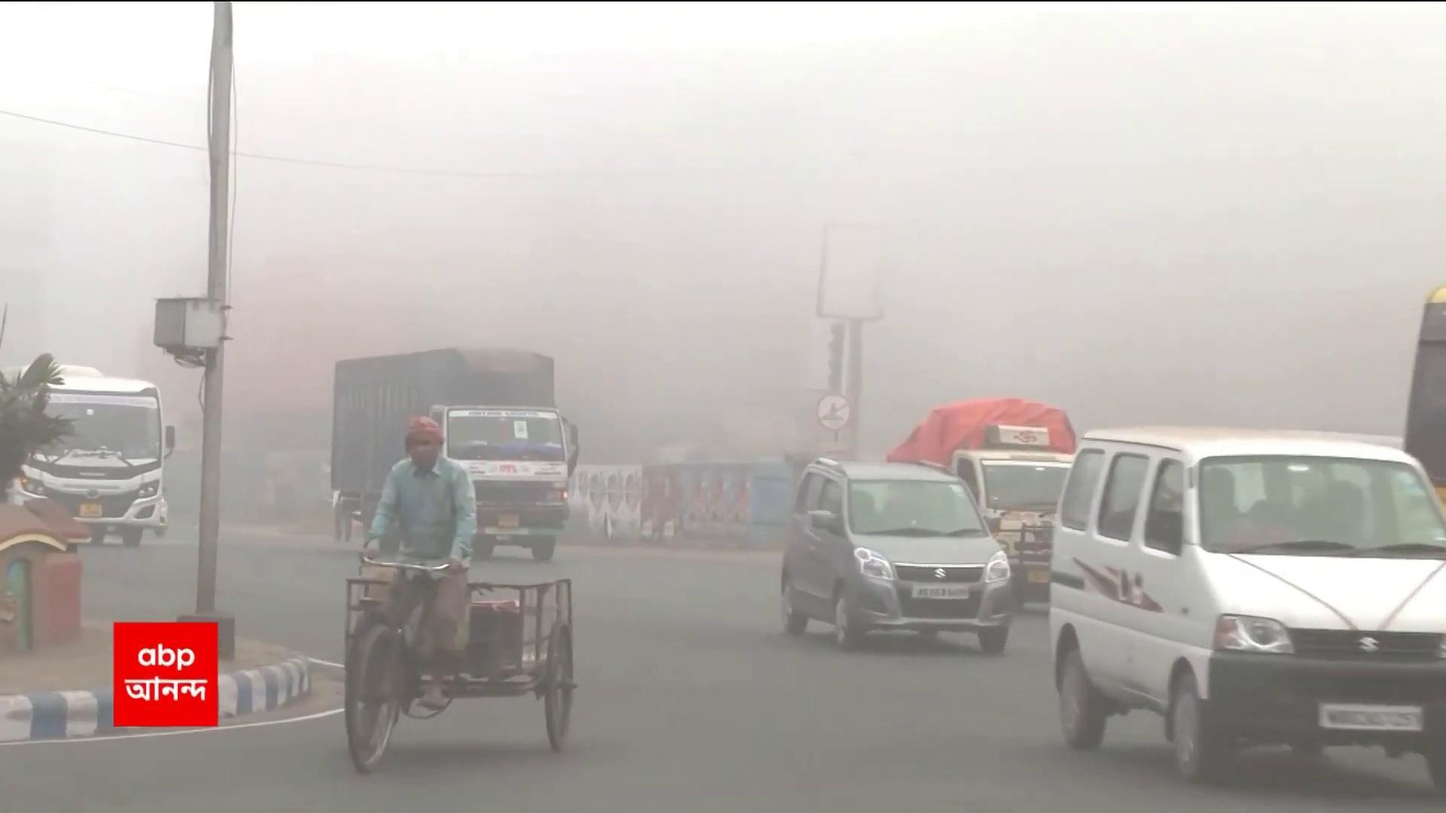Bus: (8, 362, 172, 548)
Car: (1046, 420, 1446, 782), (780, 452, 1015, 651)
Truck: (328, 344, 577, 558)
